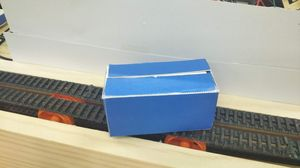box3: (100, 56, 219, 137)
